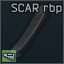FN SCAR rubber buttpad: (0, 0, 64, 64)
